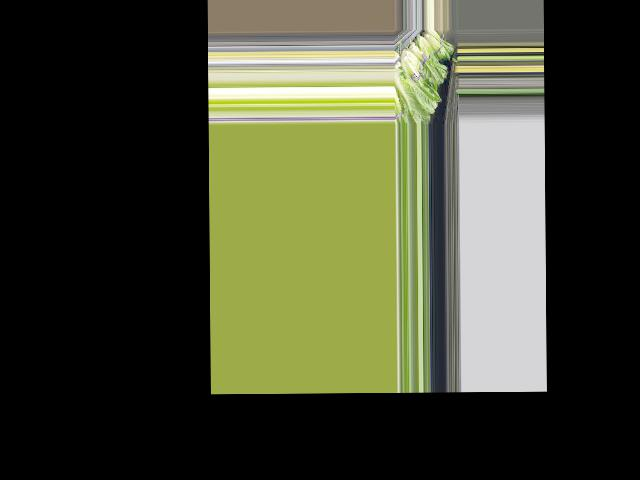lettuce: (396, 68, 435, 122)
